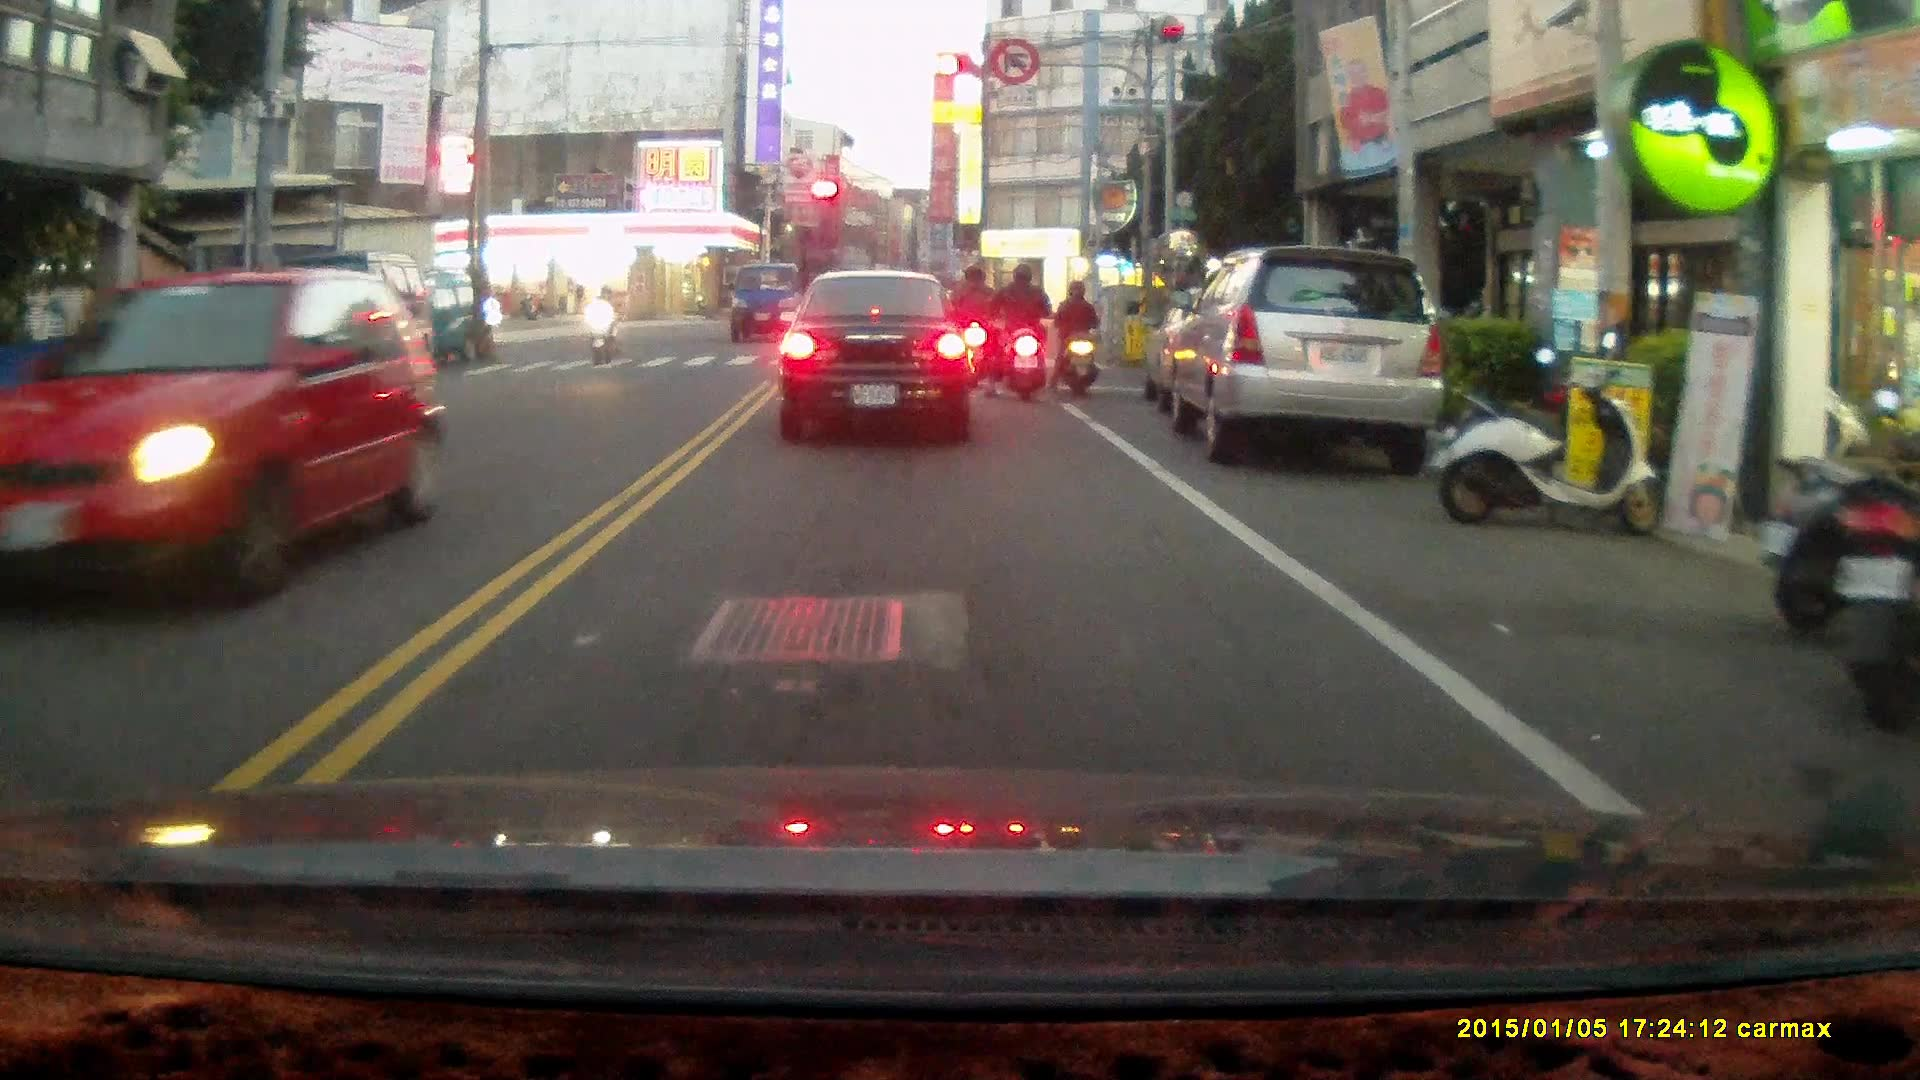rider: (986, 259, 1053, 404), (1048, 275, 1102, 397), (947, 264, 995, 386), (589, 281, 618, 366)
vehicle: (1, 265, 452, 602), (1157, 244, 1443, 465), (782, 268, 980, 441)
